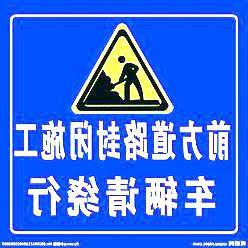sign: (6, 10, 241, 237)
